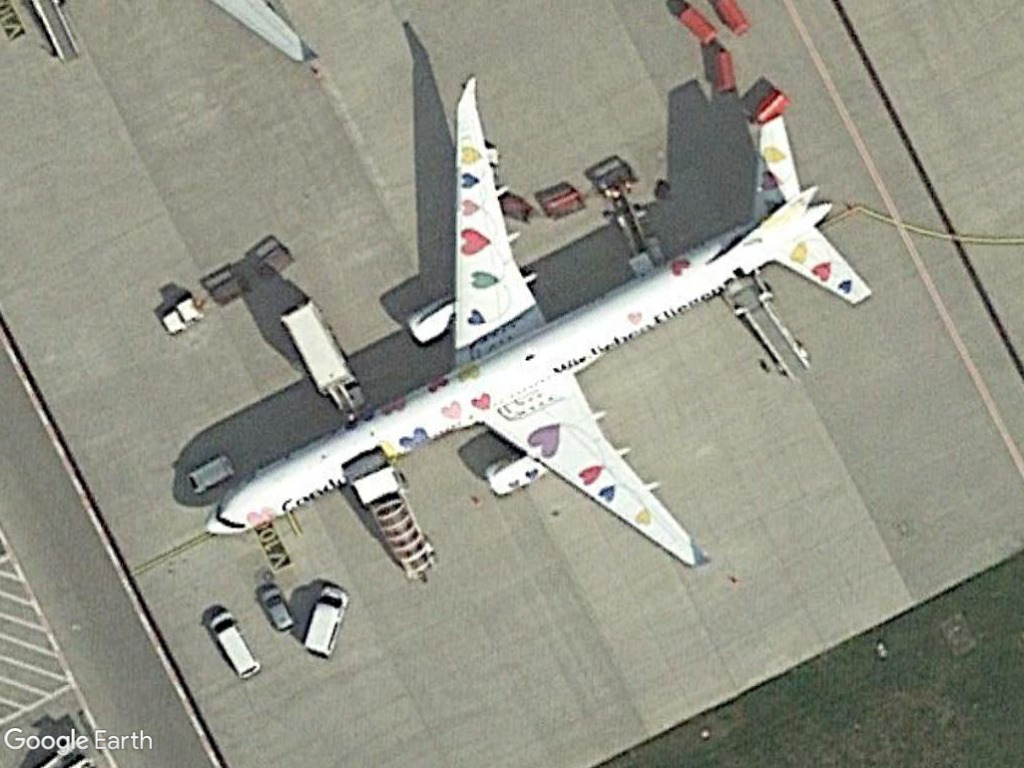airliner: (198, 67, 857, 558)
car: (251, 577, 297, 634)
stairtruck: (721, 284, 818, 384)
van: (204, 605, 264, 682), (302, 584, 351, 659)
